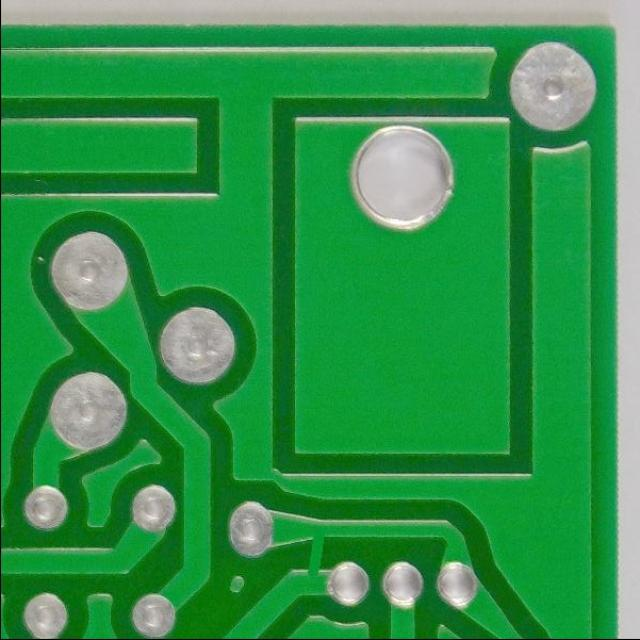Short_Circuit: (290, 511, 343, 598)
